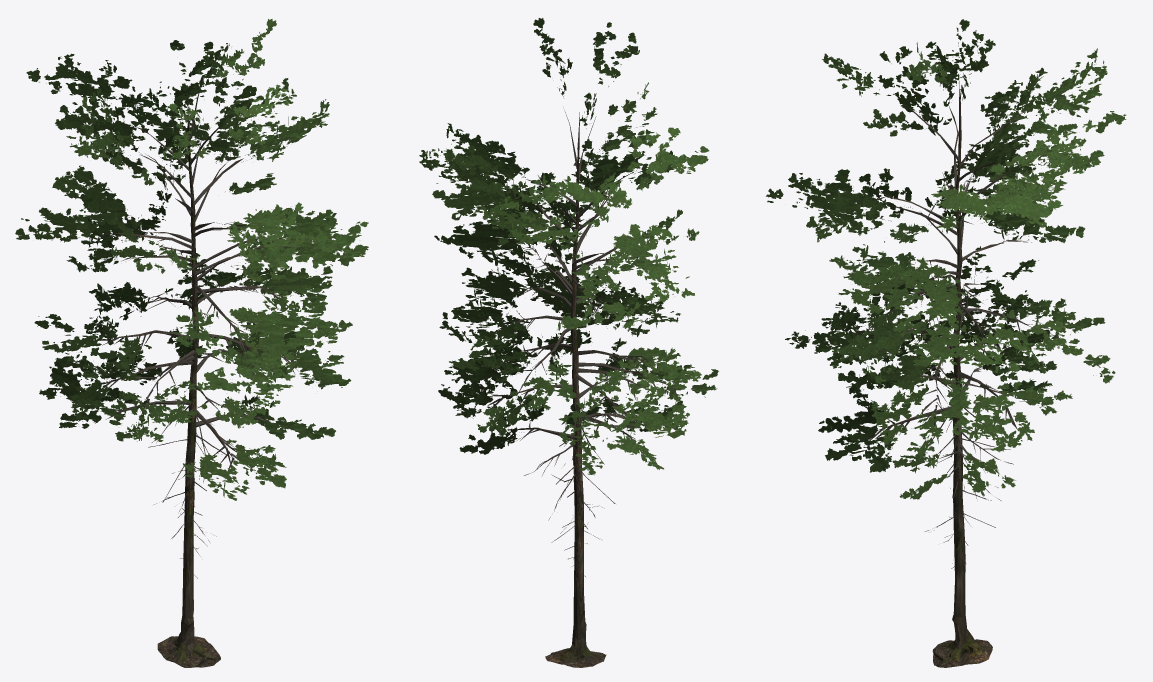
Rendered from pine_b_lod0.glb.
3 renders of one model, left to right at view 1: azimuth 30°, elevation 25°; view 2: azimuth 150°, elevation 25°; view 3: azimuth 270°, elevation 25°, orthographic. The views are drawn at different scales.
Visible parts, largest first — view 1: pine_b_lod0_needles, pine_b_lod0_branches_pine_tree_01_bark, pine_b_lod0_trunk_pine_tree_01_trunk_b, pine_b_lod0_branches_pine_tree_01_dead_branches; view 2: pine_b_lod0_needles, pine_b_lod0_branches_pine_tree_01_bark, pine_b_lod0_trunk_pine_tree_01_trunk_b, pine_b_lod0_branches_pine_tree_01_dead_branches; view 3: pine_b_lod0_needles, pine_b_lod0_trunk_pine_tree_01_trunk_b, pine_b_lod0_branches_pine_tree_01_bark, pine_b_lod0_branches_pine_tree_01_dead_branches.
Part boxes in pixels (bbox=[...]): pine_b_lod0_needles: bbox=[15, 19, 368, 500]; pine_b_lod0_branches_pine_tree_01_bark: bbox=[91, 78, 303, 469]; pine_b_lod0_trunk_pine_tree_01_trunk_b: bbox=[157, 120, 220, 667]; pine_b_lod0_branches_pine_tree_01_dead_branches: bbox=[148, 406, 234, 578]; pine_b_lod0_needles: bbox=[419, 18, 718, 475]; pine_b_lod0_branches_pine_tree_01_bark: bbox=[487, 110, 674, 440]; pine_b_lod0_trunk_pine_tree_01_trunk_b: bbox=[545, 143, 606, 667]; pine_b_lod0_branches_pine_tree_01_dead_branches: bbox=[524, 421, 615, 576]; pine_b_lod0_needles: bbox=[766, 19, 1126, 499]; pine_b_lod0_trunk_pine_tree_01_trunk_b: bbox=[932, 120, 992, 667]; pine_b_lod0_branches_pine_tree_01_bark: bbox=[853, 81, 1059, 475]; pine_b_lod0_branches_pine_tree_01_dead_branches: bbox=[924, 407, 1013, 580].
Bounding box in the file's own units: 7.51 × 14.94 × 8.
3 materials, 3 textured.
